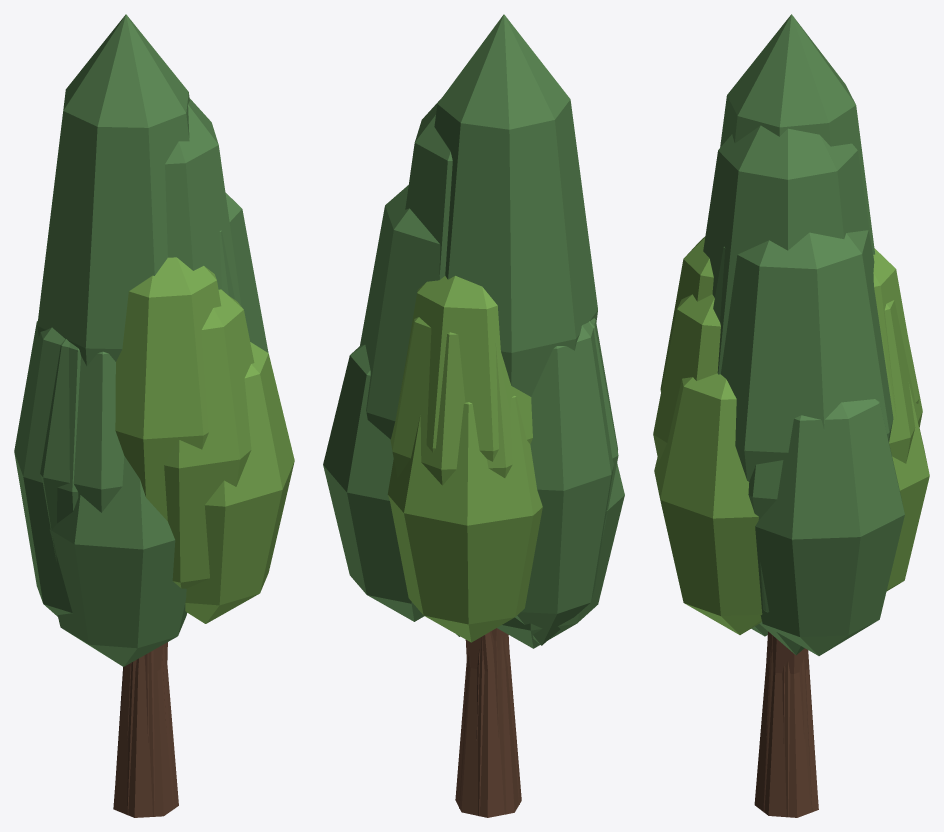
Rendered from tree_poplar_spring.glb.
The picture shows the model from 3 angles, left to right: view 1: azimuth 30°, elevation 25°; view 2: azimuth 150°, elevation 25°; view 3: azimuth 270°, elevation 25°; orthographic projection.
Parts seen in each view (by area): view 1: Poplar_tall_column_canopy.002, Poplar_upright_lobe_canopy.006, Poplar_upright_lobe_canopy.011, Poplar_upright_lobe_canopy.007, Poplar_upright_lobe_canopy.003, Poplar_upright_lobe_canopy.010, Poplar_upright_lobe_canopy.002, Poplar_tall_column_canopy, Poplar_upright_trunk.001, Poplar_tall_column_canopy.001, Poplar_upright_trunk, Poplar_upright_trunk.002; view 2: Poplar_tall_column_canopy.002, Poplar_upright_lobe_canopy.005, Poplar_upright_lobe_canopy.010, Poplar_upright_lobe_canopy.004, Poplar_tall_column_canopy.001, Poplar_upright_lobe_canopy.009, Poplar_upright_lobe_canopy.001, Poplar_upright_trunk.001, Poplar_tall_column_canopy, Poplar_upright_lobe_canopy.006, Poplar_upright_trunk, Poplar_upright_lobe_canopy.002 (+1 smaller); view 3: Poplar_tall_column_canopy.001, Poplar_upright_lobe_canopy.004, Poplar_upright_lobe_canopy.007, Poplar_tall_column_canopy, Poplar_tall_column_canopy.002, Poplar_upright_trunk.001, Poplar_upright_lobe_canopy.003, Poplar_upright_lobe_canopy.001, Poplar_upright_lobe_canopy.005, Poplar_upright_lobe_canopy.009, Poplar_upright_trunk, Poplar_upright_lobe_canopy.011 (+1 smaller).
Boxes of the visible parts, left/top/right/bottom form: Poplar_tall_column_canopy.002: left=37, top=14, right=189, bottom=366; Poplar_upright_lobe_canopy.006: left=49, top=456, right=186, bottom=666; Poplar_upright_lobe_canopy.011: left=115, top=257, right=221, bottom=521; Poplar_upright_lobe_canopy.007: left=185, top=342, right=294, bottom=623; Poplar_upright_lobe_canopy.003: left=164, top=289, right=254, bottom=588; Poplar_upright_lobe_canopy.010: left=14, top=321, right=80, bottom=616; Poplar_upright_lobe_canopy.002: left=40, top=339, right=124, bottom=561; Poplar_tall_column_canopy: left=165, top=98, right=241, bottom=305; Poplar_upright_trunk.001: left=113, top=642, right=178, bottom=817; Poplar_tall_column_canopy.001: left=219, top=192, right=268, bottom=352; Poplar_upright_trunk: left=115, top=644, right=174, bottom=816; Poplar_upright_trunk.002: left=127, top=647, right=166, bottom=742; Poplar_tall_column_canopy.002: left=434, top=14, right=597, bottom=396; Poplar_upright_lobe_canopy.005: left=387, top=396, right=542, bottom=642; Poplar_upright_lobe_canopy.010: left=515, top=318, right=617, bottom=645; Poplar_upright_lobe_canopy.004: left=323, top=344, right=424, bottom=621; Poplar_tall_column_canopy.001: left=360, top=185, right=459, bottom=636; Poplar_upright_lobe_canopy.009: left=396, top=275, right=532, bottom=461; Poplar_upright_lobe_canopy.001: left=390, top=317, right=512, bottom=485; Poplar_upright_trunk.001: left=455, top=632, right=521, bottom=817; Poplar_tall_column_canopy: left=405, top=99, right=452, bottom=279; Poplar_upright_lobe_canopy.006: left=497, top=463, right=624, bottom=648; Poplar_upright_trunk: left=459, top=629, right=519, bottom=816; Poplar_upright_lobe_canopy.002: left=589, top=321, right=618, bottom=538; Poplar_tall_column_canopy.001: left=713, top=230, right=893, bottom=655; Poplar_upright_lobe_canopy.004: left=755, top=399, right=904, bottom=655; Poplar_upright_lobe_canopy.007: left=654, top=373, right=762, bottom=634; Poplar_tall_column_canopy: left=703, top=125, right=873, bottom=374; Poplar_tall_column_canopy.002: left=720, top=14, right=874, bottom=254; Poplar_upright_trunk.001: left=754, top=631, right=818, bottom=817; Poplar_upright_lobe_canopy.003: left=653, top=294, right=720, bottom=462; Poplar_upright_lobe_canopy.001: left=879, top=300, right=922, bottom=463; Poplar_upright_lobe_canopy.005: left=886, top=382, right=929, bottom=591; Poplar_upright_lobe_canopy.009: left=873, top=248, right=918, bottom=419; Poplar_upright_trunk: left=763, top=635, right=817, bottom=817; Poplar_upright_lobe_canopy.011: left=660, top=236, right=713, bottom=391.
Bounding box in the file's own units: 1.5 × 4.45 × 1.43.
